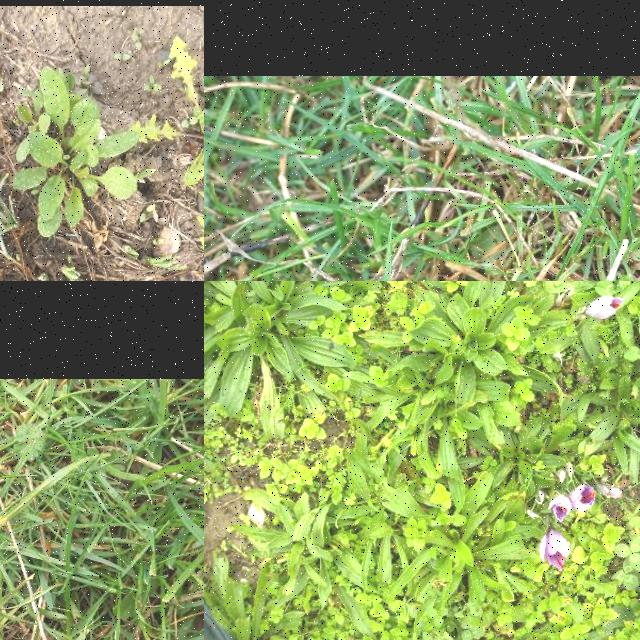flower: (538, 530, 570, 572), (584, 294, 626, 320), (570, 483, 596, 512), (548, 496, 572, 522)
